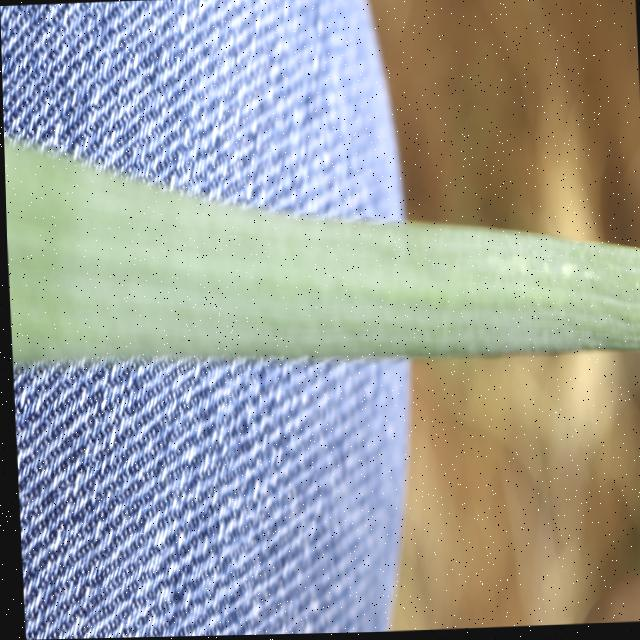healthy_wheat: (2, 87, 640, 441)
